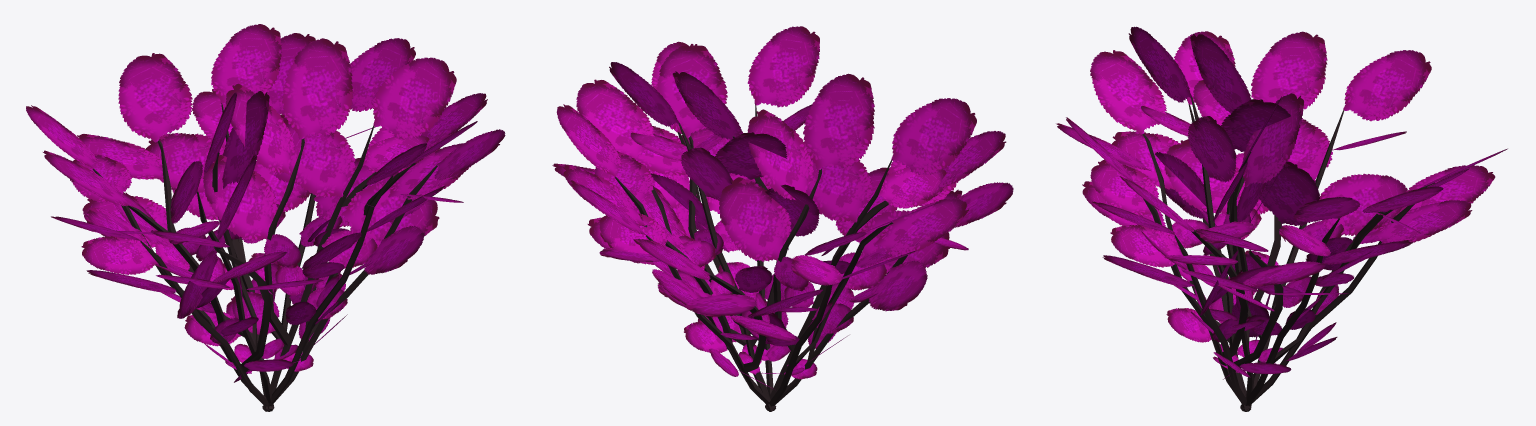
Rendered from purplebush2.fbx.
3 views of the same model, side by side, from view 1: azimuth 30°, elevation 25°; view 2: azimuth 150°, elevation 25°; view 3: azimuth 270°, elevation 25° (orthographic). The views are drawn at different scales.
Visible parts, largest first — view 1: pPlane187; view 2: pPlane187; view 3: pPlane187.
Part boxes in pixels (bbox=[...]): pPlane187: bbox=[26, 24, 505, 411]; pPlane187: bbox=[552, 26, 1013, 411]; pPlane187: bbox=[1056, 26, 1507, 411].
Bounding box in the file's own units: 15.34 × 11.62 × 13.69.
